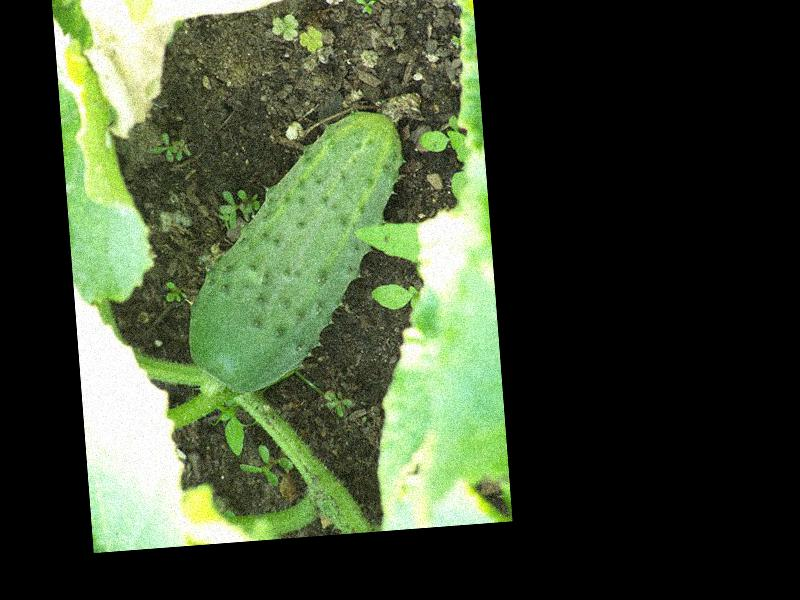Cucumber: (171, 109, 419, 398)
